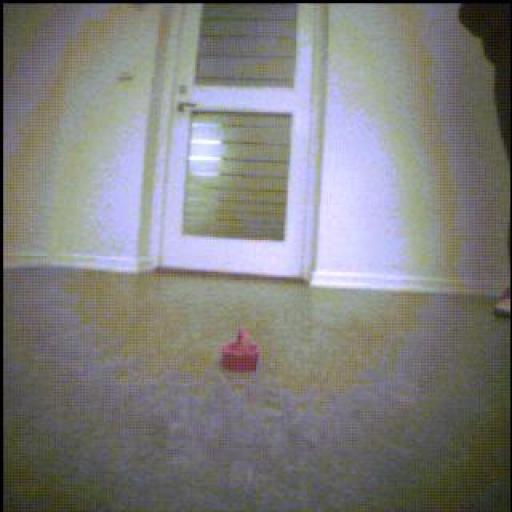Bucket: (222, 331, 260, 372)
